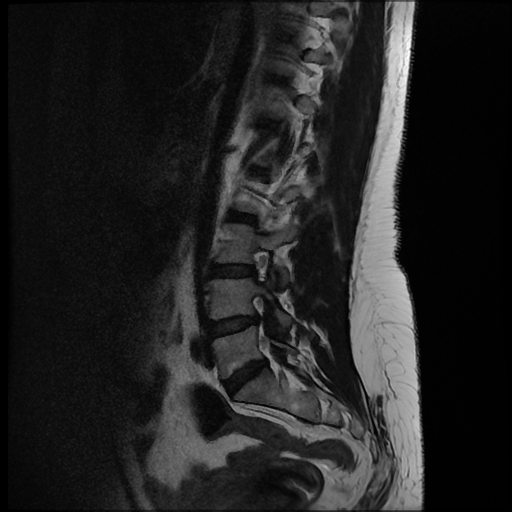RFS0: (242, 243, 276, 287)
